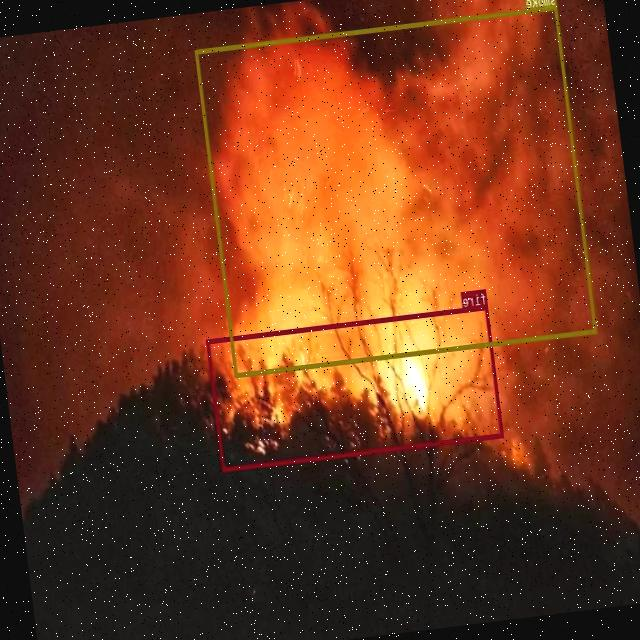fire: (206, 304, 504, 471)
smoke: (195, 4, 598, 377)
